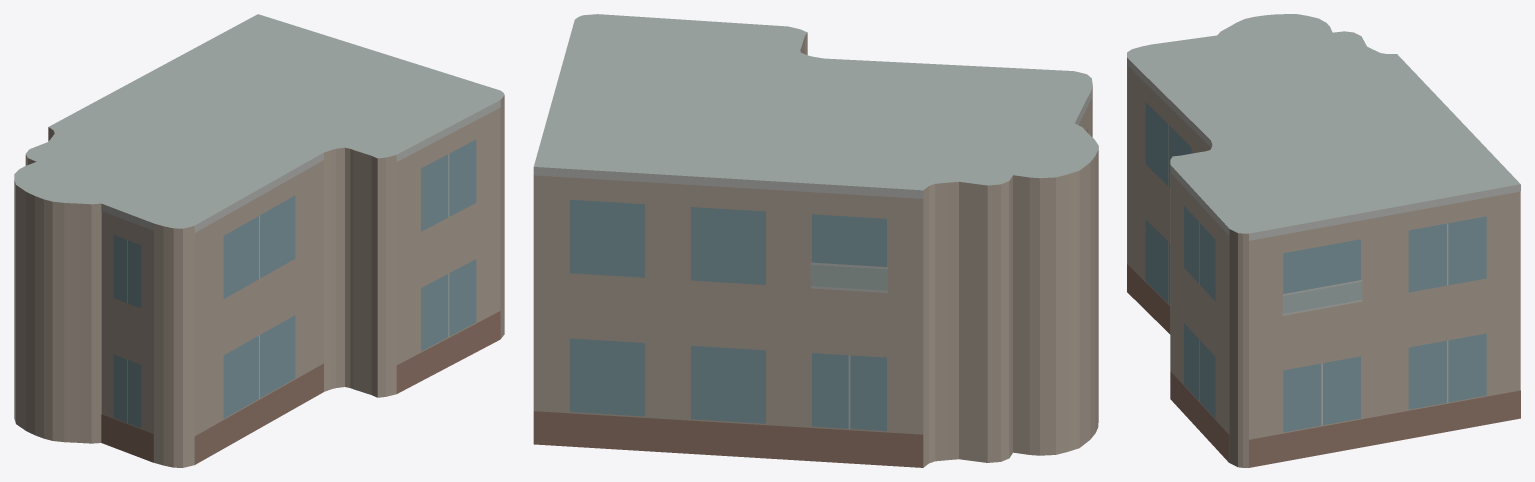
File: survey-upis-32850536.glb
3 renders of one model, left to right at view 1: azimuth 30°, elevation 25°; view 2: azimuth 150°, elevation 25°; view 3: azimuth 270°, elevation 25°, orthographic. The views are drawn at different scales.
Visible parts, largest first — view 1: survey-upis-32850536.tmp; view 2: survey-upis-32850536.tmp; view 3: survey-upis-32850536.tmp.
Boxes of the visible parts, <box> form: survey-upis-32850536.tmp: <box>14,14,504,467</box>; survey-upis-32850536.tmp: <box>533,14,1098,467</box>; survey-upis-32850536.tmp: <box>1127,14,1520,467</box>.
Bounding box in the file's own units: 15.89 × 7.9 × 12.04.
